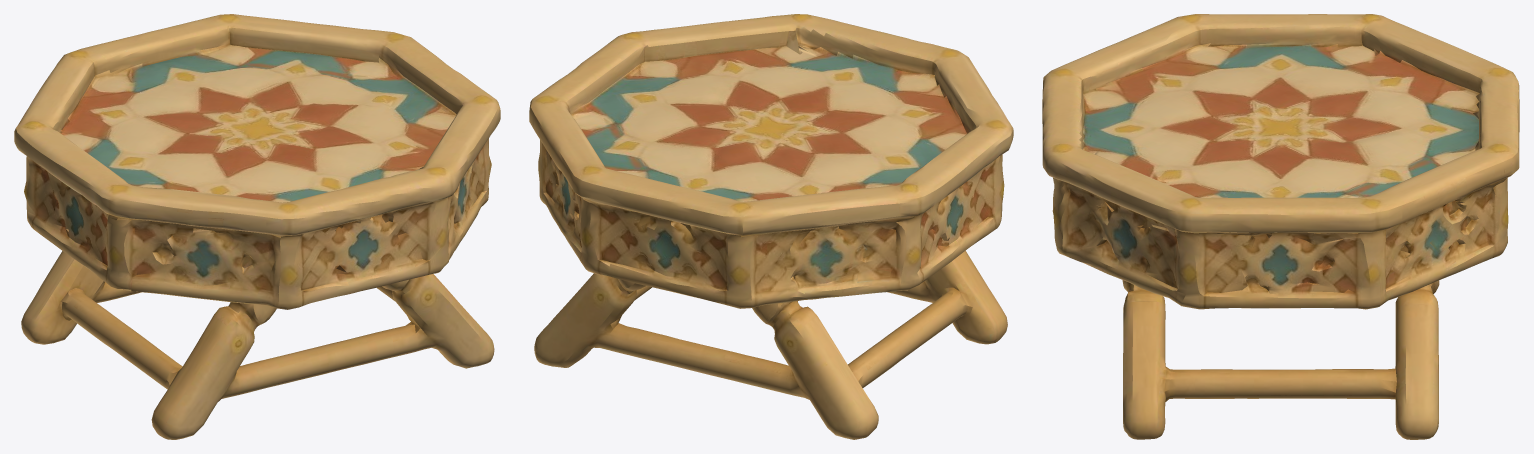
Rendered from Meshy_AI_model.glb.
3 views of the same model, side by side, from view 1: azimuth 30°, elevation 25°; view 2: azimuth 150°, elevation 25°; view 3: azimuth 270°, elevation 25° (orthographic). The views are drawn at different scales.
Parts seen in each view (by area): view 1: Mesh0; view 2: Mesh0; view 3: Mesh0.
Part boxes in pixels (x1,y1,x2,y2): Mesh0: (14,14,500,439); Mesh0: (529,14,1013,439); Mesh0: (1042,14,1519,439).
Bounding box in the file's own units: 1.9 × 1.1 × 1.9.
Materials: 1 (1 with a texture image).
